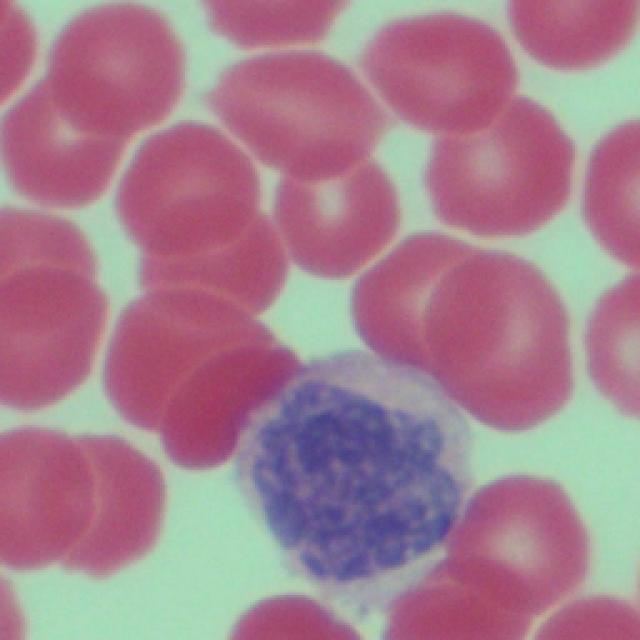RBC: (99, 162, 262, 478), (434, 241, 577, 438), (0, 0, 123, 216), (0, 421, 157, 587), (451, 453, 586, 640), (429, 91, 577, 246), (0, 196, 100, 417), (206, 47, 378, 173), (356, 1, 514, 135), (269, 123, 389, 283), (40, 0, 180, 125), (500, 0, 638, 75), (576, 110, 640, 271), (580, 271, 640, 420), (193, 0, 354, 55), (220, 587, 365, 640)
WBC: (253, 349, 475, 596)
